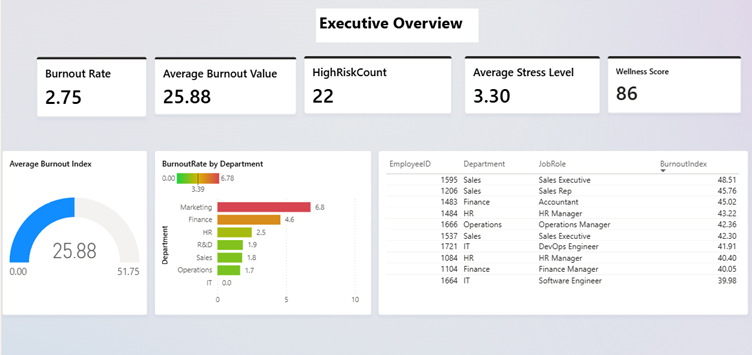

This screenshot's page, from the dashboard's own definition file:
{"tool":"powerbi","page":{"name":"Executive Overview","canvas":[1280,720],"ordinal":0},"visuals":[{"type":"cardVisual","fields":{"Data":["burnout_master.BurnoutRate"]},"box":[59,100.2,188,102.9],"z":0},{"type":"cardVisual","fields":{"Data":["burnout_master.AvgBurnoutIndex"]},"box":[259.3,100.2,241.5,98.8],"z":1000},{"type":"cardVisual","fields":{"Data":["burnout_master.HighRiskCount"]},"box":[513.2,98.8,251.1,98.8],"z":2000},{"type":"cardVisual","fields":{"Data":["burnout_master.AvgStressLevel"]},"box":[786.3,98.8,230.5,98.8],"z":3000},{"type":"cardVisual","fields":{"Data":["burnout_master.WellnessScore"]},"box":[1029.2,98.8,227.8,97.4],"z":4000},{"type":"gauge","title":"Average Burnout Index","fields":{"Y":["burnout_master.AvgBurnoutIndex"]},"box":[0,259.3,247,279.9],"z":5000},{"type":"textbox","box":[533.8,17.8,275.8,57.6],"z":6000},{"type":"clusteredBarChart","fields":{"Category":["burnout_master.Department"],"Y":["burnout_master.BurnoutRate"]},"box":[259.3,259.3,369.1,279.9],"z":7000},{"type":"tableEx","fields":{"Values":["burnout_master.EmployeeID","burnout_master.Department","burnout_master.JobRole","burnout_master.BurnoutIndex"]},"box":[639.5,259.3,628.5,279.9],"z":8000}]}

Visuals, with their boxes on the page's 1280x720 design canvas (x1, y1, x2, y2). These are canvas units, not pixel positions in the 752x355 screenshot, which may show the page scaled, cropped or inside an application window:
cardVisual - burnout_master.BurnoutRate: [59, 100, 247, 203]
cardVisual - burnout_master.AvgBurnoutIndex: [259, 100, 501, 199]
cardVisual - burnout_master.HighRiskCount: [513, 99, 764, 198]
cardVisual - burnout_master.AvgStressLevel: [786, 99, 1017, 198]
cardVisual - burnout_master.WellnessScore: [1029, 99, 1257, 196]
"Average Burnout Index" gauge: [0, 259, 247, 539]
textbox: [534, 18, 810, 75]
clusteredBarChart - burnout_master.Department x burnout_master.BurnoutRate: [259, 259, 628, 539]
tableEx - burnout_master.EmployeeID x burnout_master.Department: [640, 259, 1268, 539]
